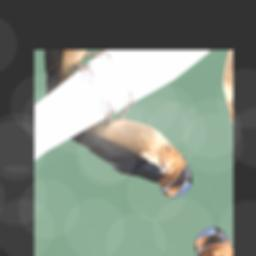Swallow: (64, 78, 199, 236)
